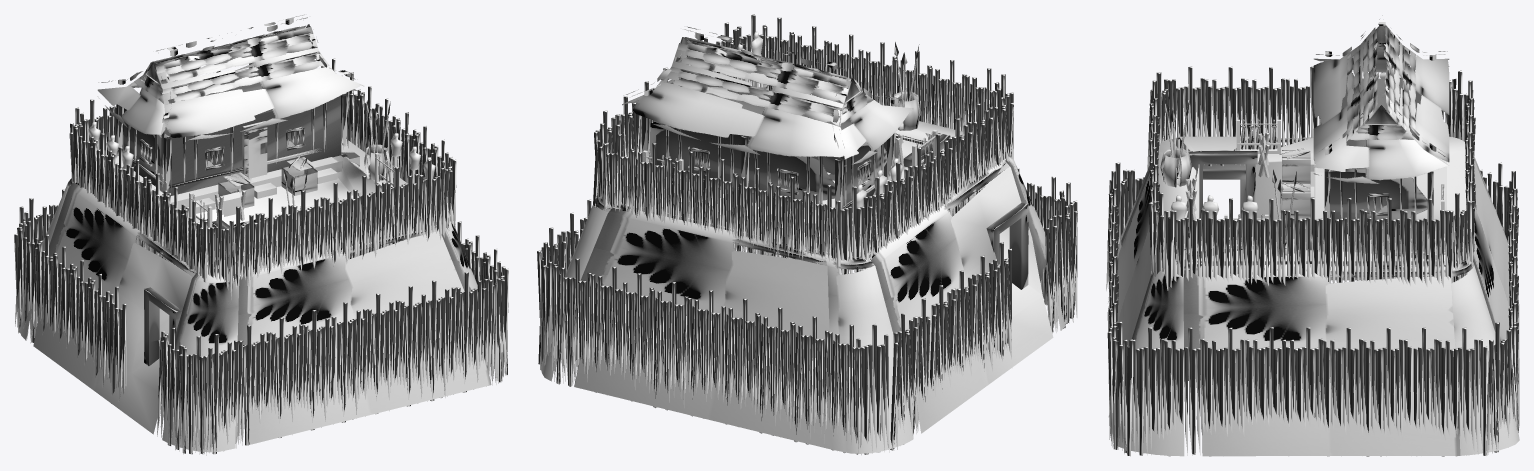
File: fortress.dae
The picture shows the model from 3 angles, left to right: view 1: azimuth 30°, elevation 25°; view 2: azimuth 150°, elevation 25°; view 3: azimuth 270°, elevation 25°; orthographic projection. The views are drawn at different scales.
Visible parts, largest first — view 1: fortress; view 2: fortress; view 3: fortress.
Part boxes in pixels (x1,y1,x2,y2): fortress: (14,14,508,455); fortress: (537,14,1077,454); fortress: (1106,15,1519,456).
Bounding box in the file's own units: 25.34 × 25.16 × 21.29.
